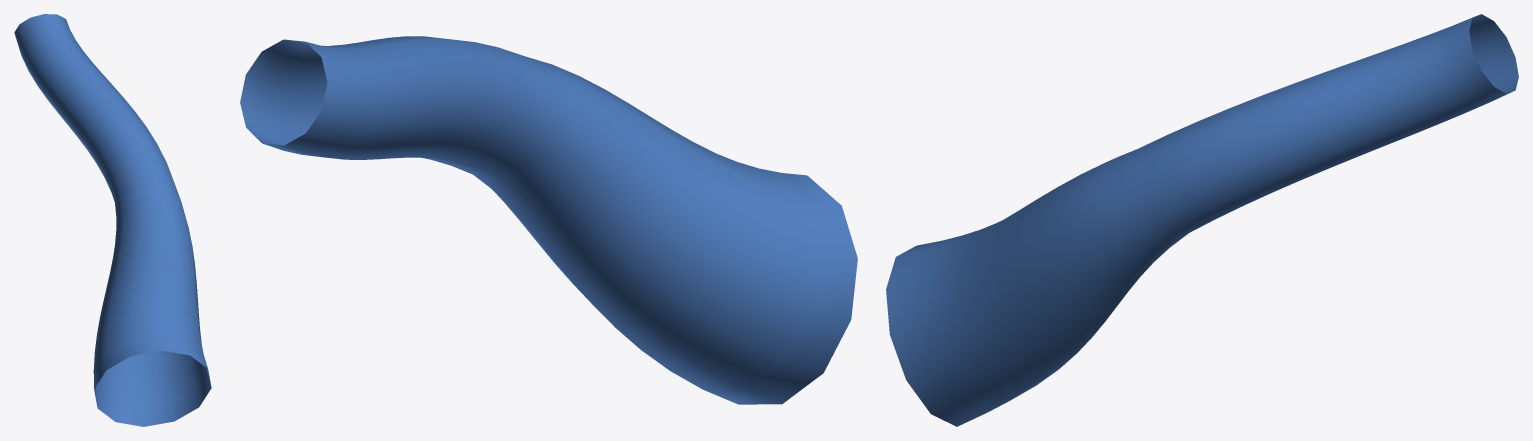
3 views of the same model, side by side, from view 1: azimuth 30°, elevation 25°; view 2: azimuth 150°, elevation 25°; view 3: azimuth 270°, elevation 25° (orthographic). The views are drawn at different scales.
Parts seen in each view (by area): view 1: 左侧髂内静脉; view 2: 左侧髂内静脉; view 3: 左侧髂内静脉.
Boxes of the visible parts, x1,y1,x2,y2 form: 左侧髂内静脉: (14, 14, 211, 426); 左侧髂内静脉: (240, 36, 857, 404); 左侧髂内静脉: (886, 14, 1518, 426).
Bounding box in the file's own units: 0.0267 × 0.0498 × 0.0646.
